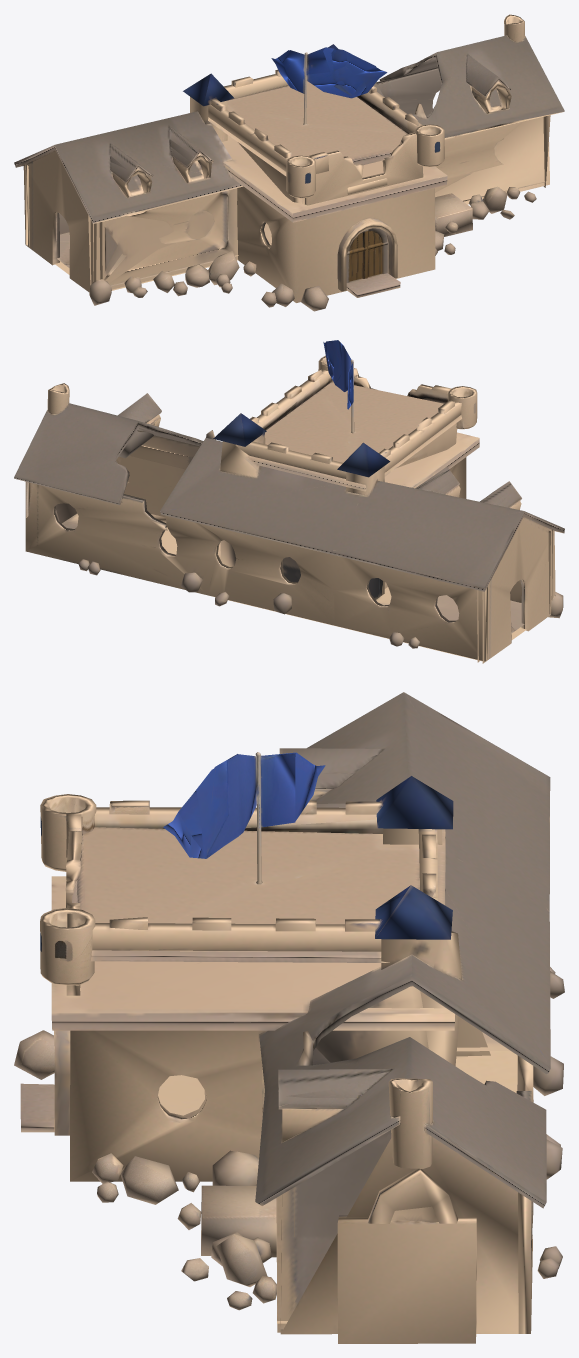
File: meshy-c8-d2.glb
3 renders of one model, top to bottom at view 1: azimuth 30°, elevation 25°; view 2: azimuth 150°, elevation 25°; view 3: azimuth 270°, elevation 25°, orthographic. The views are drawn at different scales.
Bounding box in the file's own units: 1 × 0.4266 × 0.5558.
1 material, 1 textured.
